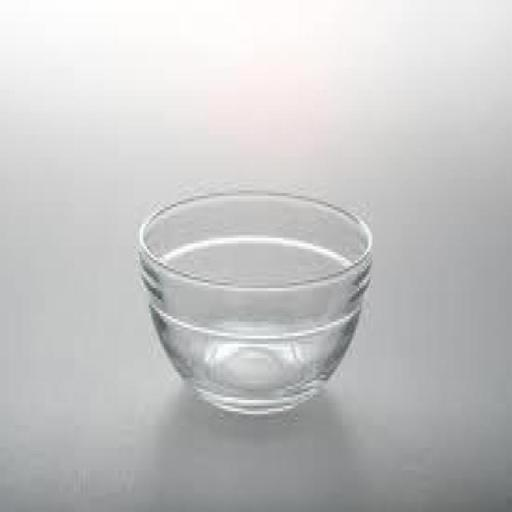glass: (130, 171, 386, 434)
